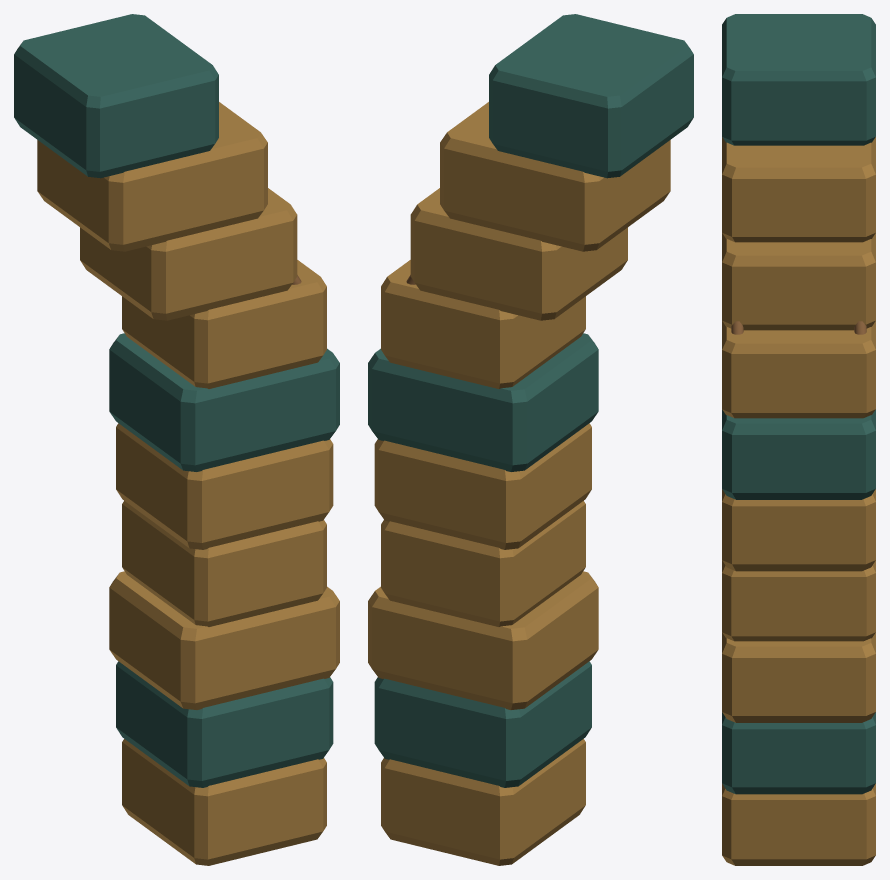
File: ruin_corbel.glb
The picture shows the model from 3 angles, left to right: view 1: azimuth 30°, elevation 25°; view 2: azimuth 150°, elevation 25°; view 3: azimuth 270°, elevation 25°; orthographic projection. The views are drawn at different scales.
Parts seen in each view (by area): view 1: ruin_corbel; view 2: ruin_corbel; view 3: ruin_corbel.
Part boxes in pixels (bbox=[...]): ruin_corbel: bbox=[14, 14, 339, 865]; ruin_corbel: bbox=[368, 14, 693, 865]; ruin_corbel: bbox=[722, 14, 875, 865].
Bounding box in the file's own units: 13.4 × 40.1 × 7.5.
